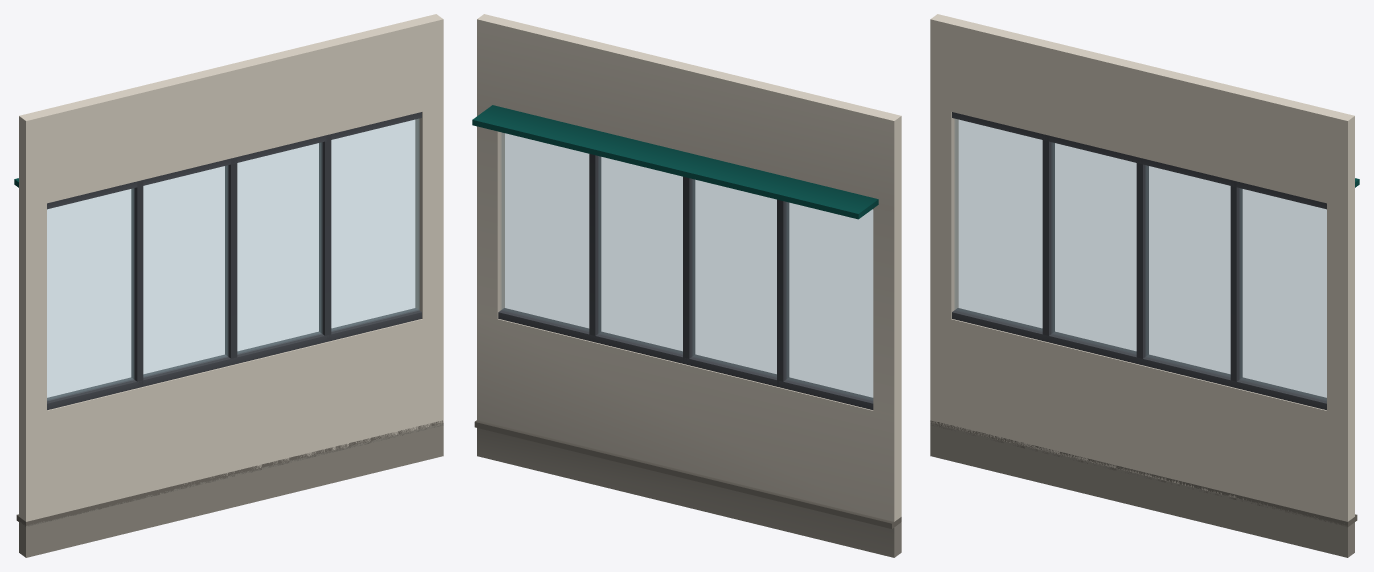
Rendered from facade_panel_01.glb.
The picture shows the model from 3 angles, left to right: view 1: azimuth 30°, elevation 25°; view 2: azimuth 150°, elevation 25°; view 3: azimuth 330°, elevation 25°; orthographic projection.
Visible parts, largest first — view 1: facade_panel_01_mesh, facade_panel_01_glass; view 2: facade_panel_01_mesh, facade_panel_01_glass; view 3: facade_panel_01_mesh, facade_panel_01_glass.
Boxes of the visible parts, x1,y1,x2,y2 form: facade_panel_01_mesh: [14, 14, 443, 557]; facade_panel_01_glass: [47, 119, 419, 400]; facade_panel_01_mesh: [472, 14, 901, 557]; facade_panel_01_glass: [501, 132, 872, 400]; facade_panel_01_mesh: [930, 14, 1359, 557]; facade_panel_01_glass: [954, 119, 1326, 400].
Bounding box in the file's own units: 4 × 4 × 0.455.
Materials: 2 (2 with a texture image).
